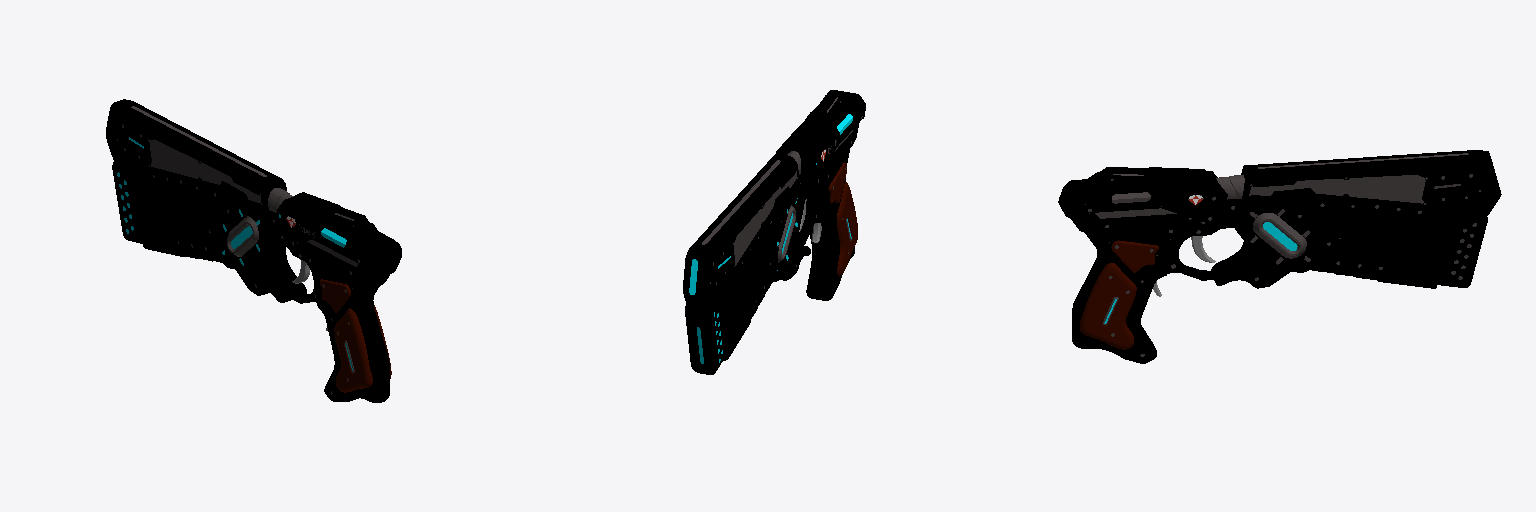
Rendered from dominator.obj.
3 renders of one model, left to right at view 1: azimuth 30°, elevation 25°; view 2: azimuth 150°, elevation 25°; view 3: azimuth 270°, elevation 25°, orthographic.
Parts seen in each view (by area): view 1: dominator; view 2: dominator; view 3: dominator.
Part boxes in pixels (x1,y1,x2,y2): dominator: (106, 99, 401, 402); dominator: (683, 90, 865, 374); dominator: (1058, 150, 1501, 363).
Bounding box in the file's own units: 0.5082 × 1.1 × 2.26.